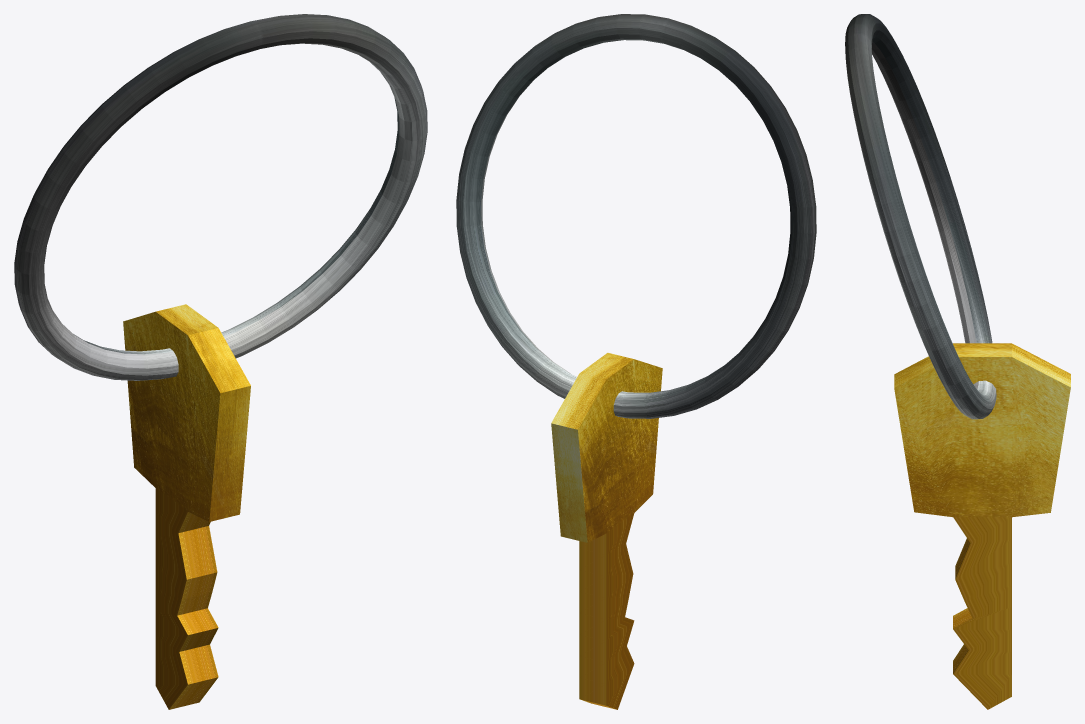
The model's file is Keyring.fbx.
3 views of the same model, side by side, from view 1: azimuth 30°, elevation 25°; view 2: azimuth 150°, elevation 25°; view 3: azimuth 270°, elevation 25° (orthographic). The views are drawn at different scales.
Visible parts, largest first — view 1: Torus, Cube; view 2: Torus, Cube; view 3: Cube, Torus.
Boxes of the visible parts, x1,y1,x2,y2 form: Torus: (14,14,427,380); Cube: (123,304,250,709); Torus: (456,14,816,418); Cube: (551,353,662,709); Cube: (894,343,1070,709); Torus: (845,14,996,419).
Bounding box in the file's own units: 62 × 108 × 33.08.
2 materials, 2 textured.
